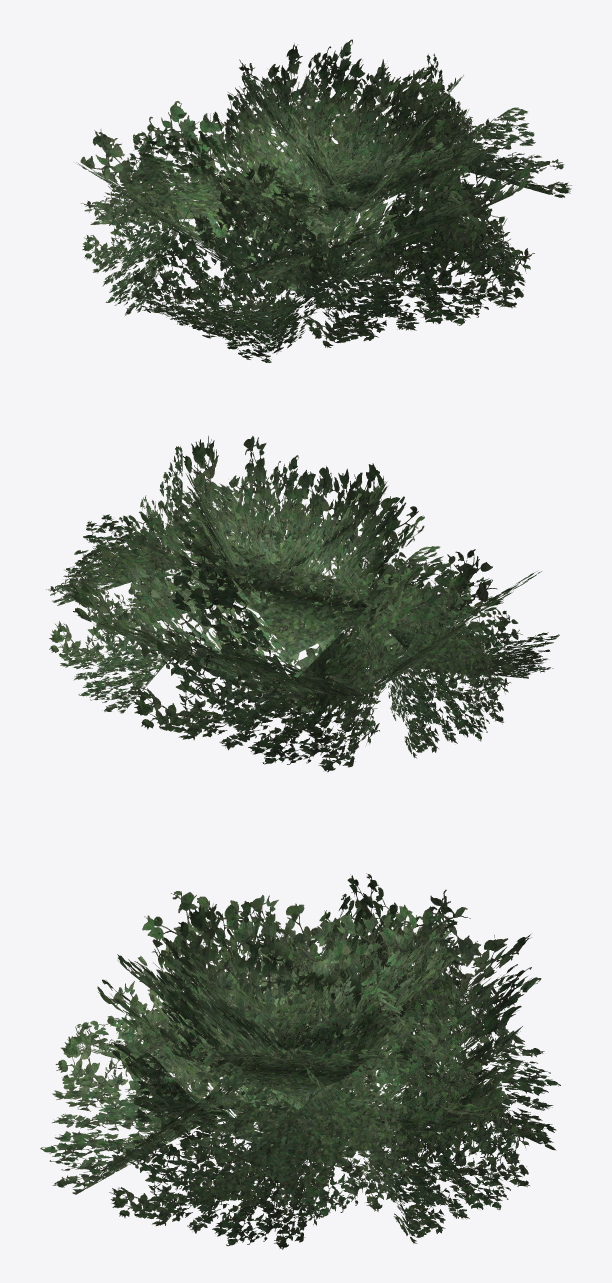
Rendered from shrb_giantlickbush_a1_l1.fbx.
The picture shows the model from 3 angles, top to bottom: view 1: azimuth 30°, elevation 25°; view 2: azimuth 150°, elevation 25°; view 3: azimuth 270°, elevation 25°; orthographic projection. The views are drawn at different scales.
Parts seen in each view (by area): view 1: mesh_node; view 2: mesh_node; view 3: mesh_node.
Part boxes in pixels (bbox=[...]): mesh_node: bbox=[76, 39, 571, 362]; mesh_node: bbox=[46, 435, 559, 772]; mesh_node: bbox=[40, 873, 560, 1249].
Size of the model in its own units: 4.02 by 1.92 by 3.49.
1 material, 1 textured.
